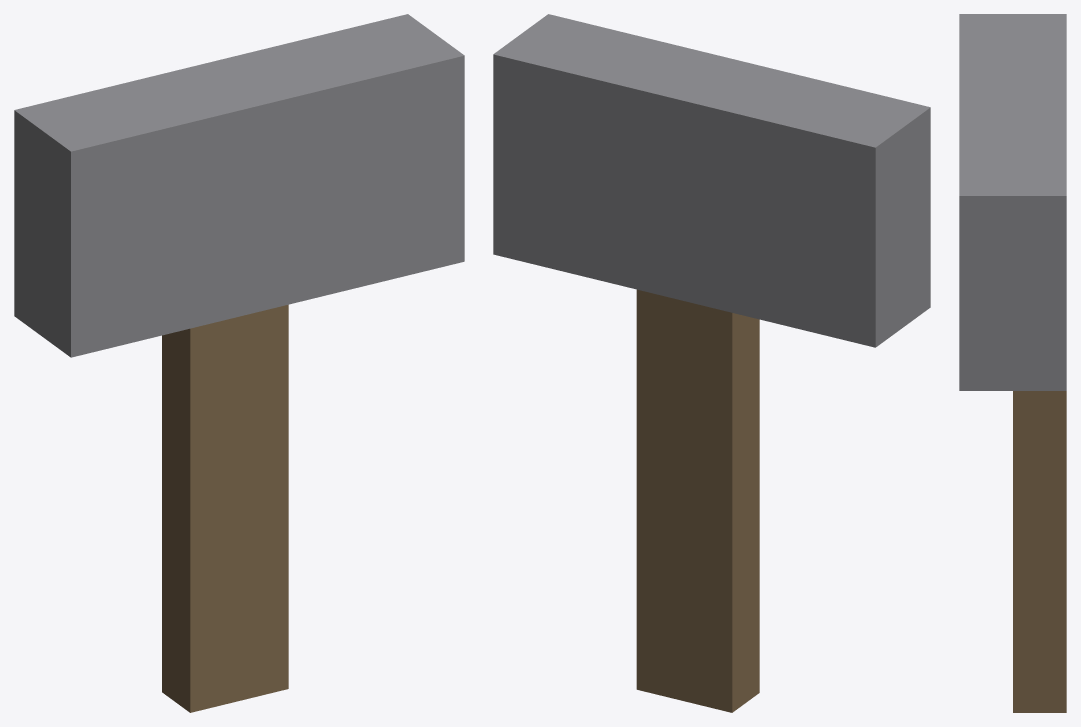
File: martillo_01.glb
The picture shows the model from 3 angles, left to right: view 1: azimuth 30°, elevation 25°; view 2: azimuth 150°, elevation 25°; view 3: azimuth 270°, elevation 25°; orthographic projection. The views are drawn at different scales.
Visible parts, largest first — view 1: martillo; view 2: martillo; view 3: martillo.
Boxes of the visible parts, box(x1,y1,x2,y2) form: martillo: box(14, 14, 464, 712); martillo: box(493, 14, 930, 712); martillo: box(959, 14, 1066, 712).
Bounding box in the file's own units: 0.6667 × 1 × 0.1667.
